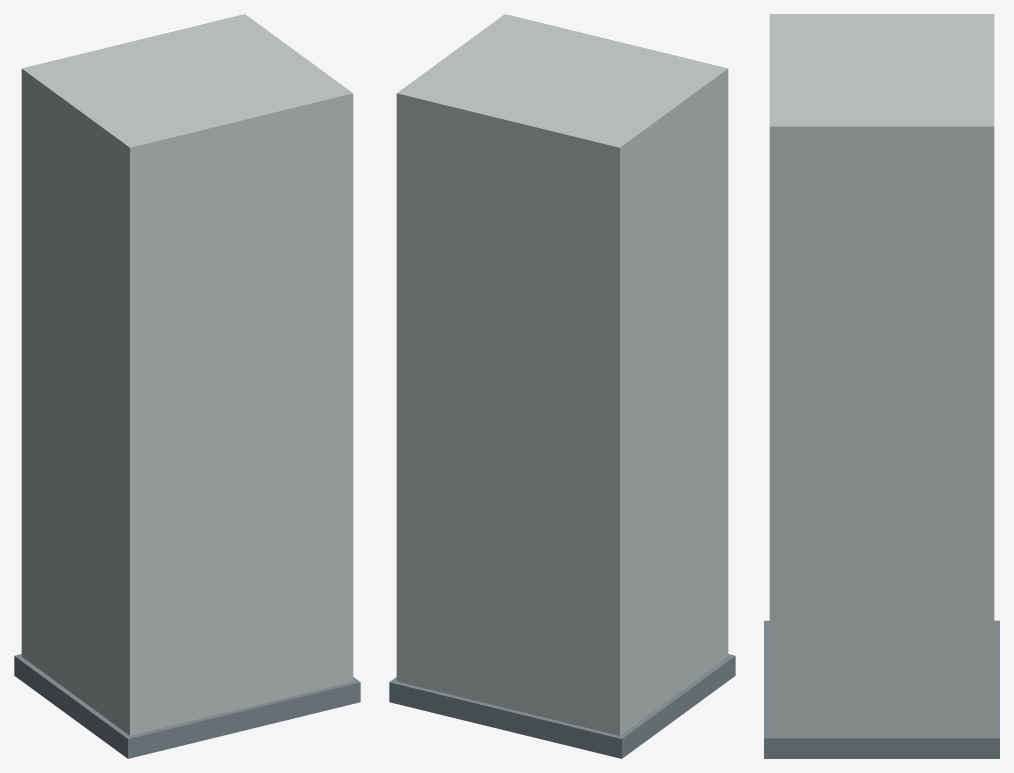
File: back_ring_measuring_column.dae
3 views of the same model, side by side, from view 1: azimuth 30°, elevation 25°; view 2: azimuth 150°, elevation 25°; view 3: azimuth 270°, elevation 25° (orthographic). The views are drawn at different scales.
Parts seen in each view (by area): view 1: back_ring_measuring_column; view 2: back_ring_measuring_column; view 3: back_ring_measuring_column.
Part boxes in pixels (x1,y1,x2,y2): back_ring_measuring_column: (14, 14, 360, 758); back_ring_measuring_column: (389, 14, 735, 758); back_ring_measuring_column: (764, 14, 999, 758).
Bounding box in the file's own units: 0.6124 × 0.519 × 1.53.
